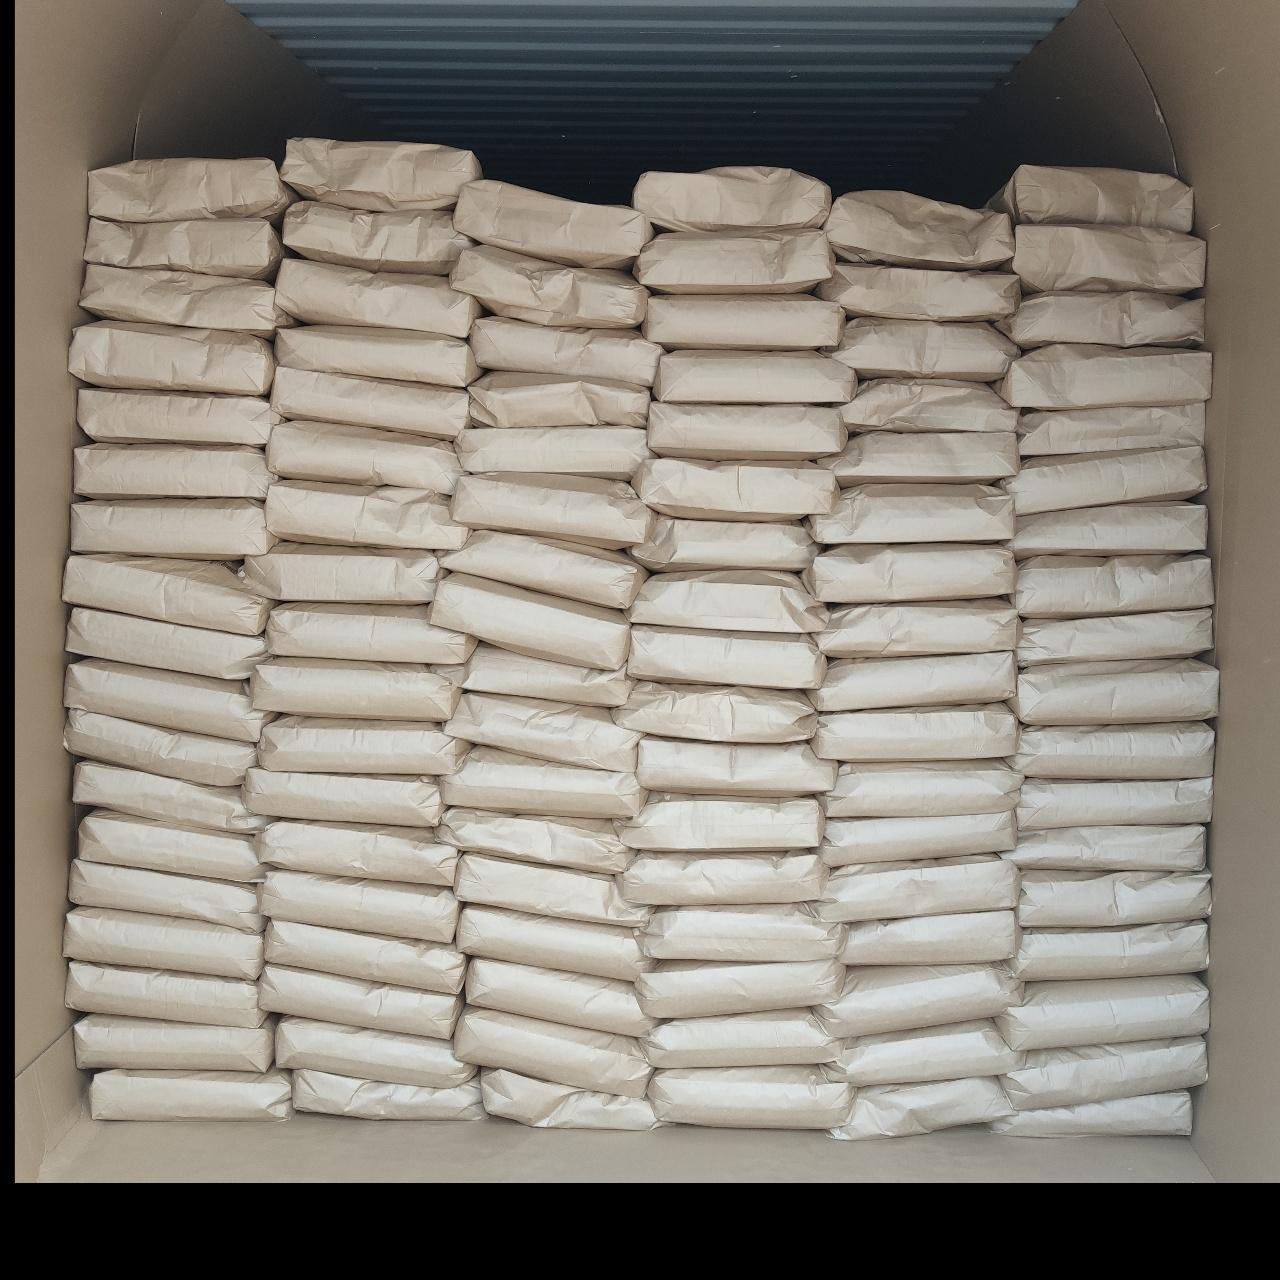sack: (429, 573, 628, 669), (454, 1006, 650, 1096), (63, 659, 274, 742), (452, 179, 653, 266), (62, 556, 274, 634), (441, 531, 647, 609), (450, 246, 648, 327), (276, 259, 480, 337), (996, 975, 1208, 1050), (80, 264, 294, 338), (69, 320, 274, 396), (445, 693, 639, 772), (259, 964, 463, 1039), (815, 965, 1023, 1038), (450, 472, 652, 547), (466, 958, 658, 1036), (1002, 1037, 1207, 1110), (258, 869, 459, 942), (825, 191, 1013, 269), (441, 747, 647, 818), (265, 920, 464, 993), (281, 138, 482, 210), (270, 366, 468, 439), (72, 760, 267, 834), (1000, 446, 1206, 516), (64, 709, 256, 784), (455, 853, 648, 927), (66, 608, 267, 679), (64, 907, 262, 979), (458, 905, 648, 980), (266, 421, 460, 494), (69, 858, 261, 931), (266, 481, 468, 550), (276, 1017, 475, 1087), (987, 165, 1193, 232), (469, 316, 663, 387), (283, 201, 473, 273), (999, 344, 1211, 408), (816, 855, 1018, 922), (1008, 660, 1218, 724), (78, 810, 264, 882), (1009, 225, 1204, 293), (89, 157, 296, 221), (83, 216, 283, 282), (67, 961, 264, 1028), (251, 658, 460, 721), (257, 820, 456, 886), (435, 808, 634, 874), (633, 166, 831, 232), (825, 1020, 1025, 1085), (431, 643, 634, 707), (816, 258, 1020, 321), (626, 625, 826, 689), (631, 458, 837, 520), (633, 230, 833, 293), (276, 325, 479, 387), (802, 544, 1015, 603), (648, 1066, 854, 1127), (807, 651, 1016, 711), (258, 717, 473, 775), (1013, 556, 1213, 618), (266, 604, 476, 663), (241, 542, 444, 603), (808, 484, 1014, 544), (611, 682, 815, 742), (635, 736, 838, 796), (636, 960, 845, 1018), (627, 572, 828, 632), (831, 317, 1019, 381), (618, 792, 824, 850), (996, 291, 1202, 349), (817, 598, 1018, 657), (78, 388, 282, 446), (71, 499, 275, 557), (1009, 921, 1208, 980), (810, 705, 1017, 761), (648, 402, 847, 460), (822, 760, 1021, 818), (640, 1010, 842, 1067), (1009, 502, 1207, 560), (1008, 723, 1213, 779), (246, 768, 443, 826), (642, 904, 846, 960), (1017, 870, 1210, 929), (817, 431, 1019, 487), (1017, 608, 1212, 666), (75, 1015, 273, 1072), (832, 1078, 1016, 1138), (652, 350, 856, 404), (74, 444, 273, 499), (620, 852, 828, 904), (822, 811, 1017, 866), (642, 295, 844, 348), (481, 1069, 656, 1129), (456, 427, 652, 480), (1016, 778, 1210, 831), (631, 516, 817, 571), (469, 372, 649, 428), (1017, 403, 1204, 456), (90, 1070, 292, 1119), (840, 911, 1017, 965), (293, 1069, 483, 1119), (1002, 825, 1205, 870), (989, 1091, 1191, 1136), (842, 381, 1018, 432)
